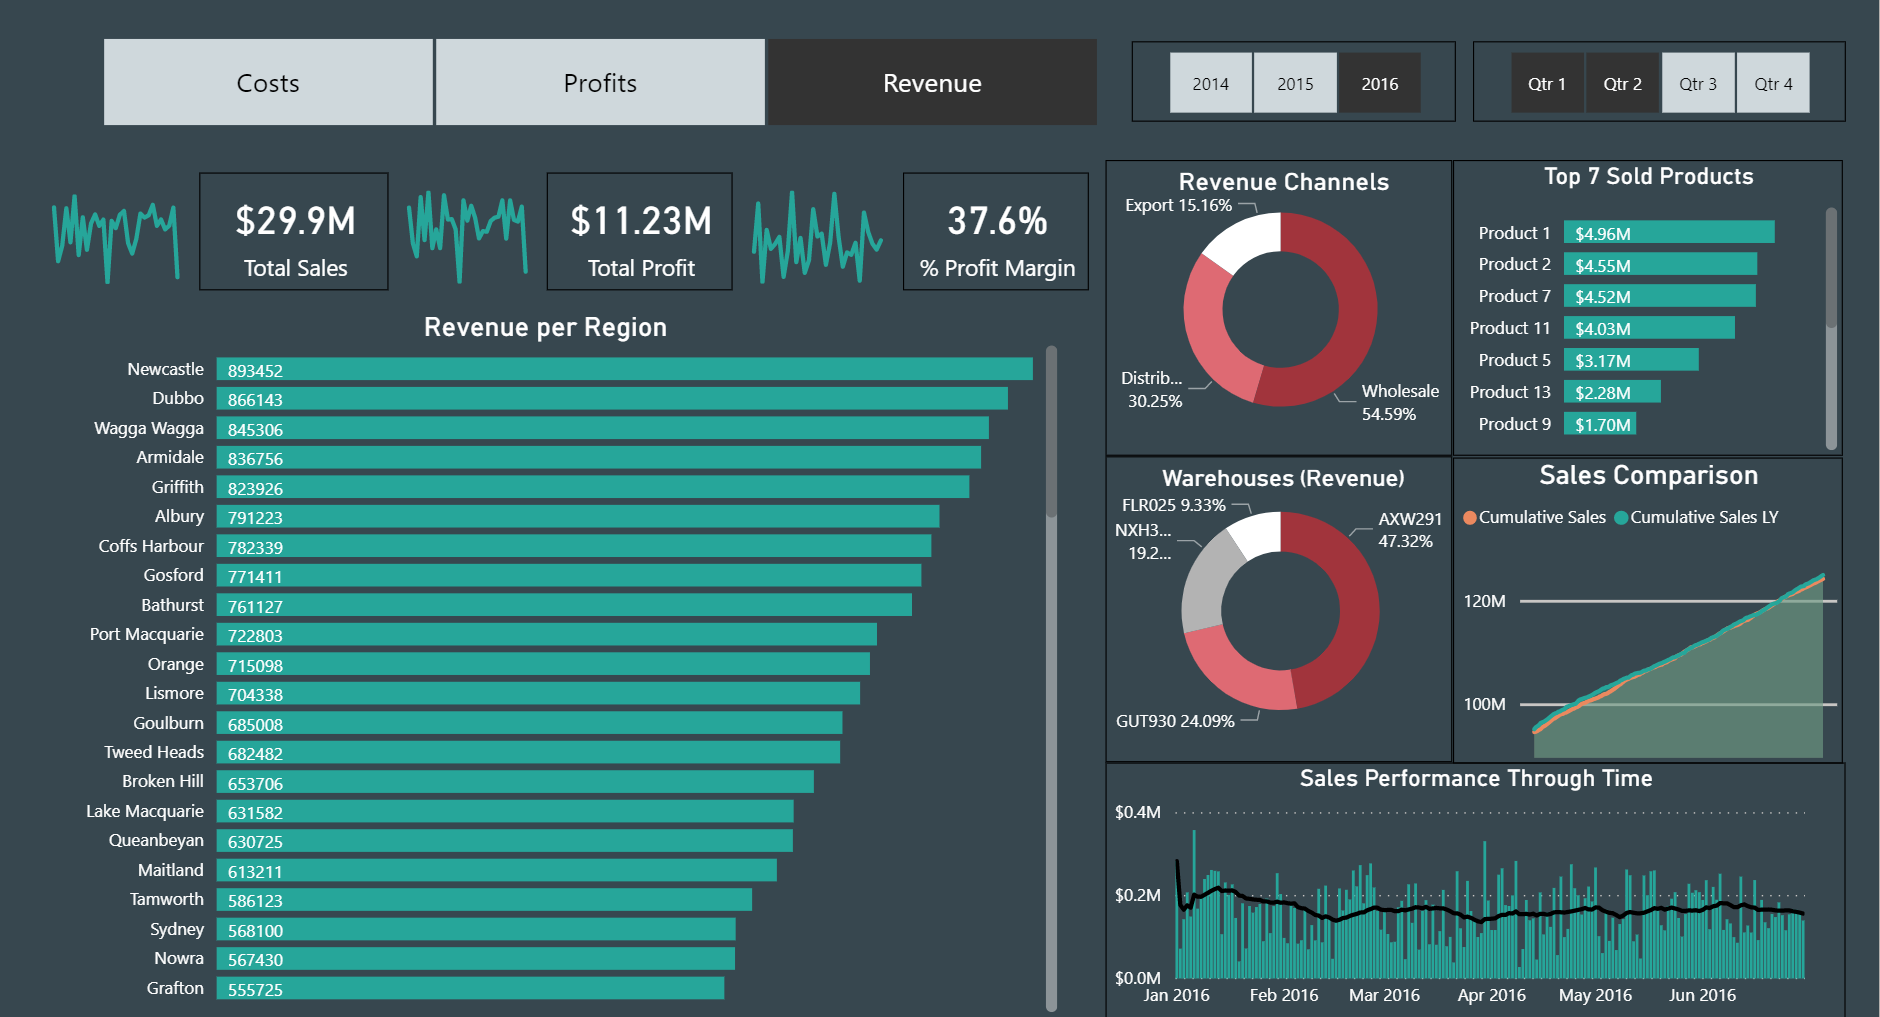

Layout of this report page (visuals, bound fields, positions):
{"tool":"powerbi","page":{"name":"Page 1","canvas":[1280,720],"ordinal":0},"visuals":[{"type":"slicer","fields":{"Values":["Date.Date.Variation.Date Hierarchy.Quarter"]},"box":[1016.7,28.9,262.9,56.7],"z":0},{"type":"slicer","fields":{"Values":["Date.Date.Variation.Date Hierarchy.Year"]},"box":[775.5,28.9,229.1,56.7],"z":1000},{"type":"card","fields":{"Values":["Key Measures.Total Sales"]},"box":[117,121.8,133.9,83.2],"z":2000},{"type":"lineChart","fields":{"Y":["Key Measures.Total Sales"],"Category":["Date.Date.Variation.Date Hierarchy.Year","Date.Date.Variation.Date Hierarchy.Quarter","Date.Date.Variation.Date Hierarchy.Month","Date.Date.Variation.Date Hierarchy.Day"]},"box":[0,124.2,117,80.8],"z":3000},{"type":"card","fields":{"Values":["Key Measures.Total Profit"]},"box":[363,121.8,131.5,83.2],"z":4000},{"type":"card","fields":{"Values":["Key Measures.Profit %"]},"box":[613.9,121.8,131.5,83.2],"z":5000},{"type":"lineChart","fields":{"Y":["Key Measures.Total Profit"],"Category":["Date.Date.Variation.Date Hierarchy.Year","Date.Date.Variation.Date Hierarchy.Quarter","Date.Date.Variation.Date Hierarchy.Month","Date.Date.Variation.Date Hierarchy.Day"]},"box":[250.9,121.8,112.2,83.2],"z":6000},{"type":"lineChart","fields":{"Y":["Key Measures.% Profit Margin"],"Category":["Date.Date.Variation.Date Hierarchy.Year","Date.Date.Variation.Date Hierarchy.Quarter","Date.Date.Variation.Date Hierarchy.Month","Date.Date.Variation.Date Hierarchy.Day"]},"box":[494.5,121.8,119.4,83.2],"z":7000},{"type":"clusteredBarChart","title":"Performance per sales region","fields":{"Category":["Regions.City"],"Y":["Key Measures.Selected Metric"]},"box":[24.1,231.6,704.3,488.4],"z":8000},{"type":"donutChart","title":"Sales Channels","fields":{"Series":["Sales.Channel"],"Y":["Key Measures.Selected Metric"]},"box":[757.4,113.4,244.8,208.6],"z":9000},{"type":"clusteredBarChart","title":"Top 7 Sold Products","fields":{"Y":["Key Measures.Total Sales"],"Category":["Product Data.Product Name"]},"box":[1002.2,113.4,275,208.6],"z":10000},{"type":"donutChart","title":"Warehouses","fields":{"Category":["Sales.Warehouse Code"],"Y":["Key Measures.Selected Metric"]},"box":[757.4,322,244.8,215.9],"z":11000},{"type":"areaChart","title":"Sales Comparison","fields":{"Y":["Cumulative Measures.Cumulative Sales"],"Category":["Date.Date"],"Y2":["Cumulative Measures.Cumulative Sales LY"]},"box":[1002.2,323.2,275,215.9],"z":12000},{"type":"lineClusteredColumnComboChart","title":"Sales Performance Through Time","fields":{"Y":["Key Measures.Total Sales"],"Category":["Sales.OrderDate"],"Y2":["Moving Average.Sales MA (30Days)"]},"box":[757.4,537.9,522.2,182.1],"z":13000},{"type":"slicer","fields":{"Values":["Metric Selection.Metric"]},"box":[24.1,20.5,751.4,74.8],"z":14000},{"type":"card","fields":{"Values":["Titles.Measure per region"]},"box":[270.2,213.5,184.5,35],"z":15000},{"type":"card","fields":{"Values":["Titles.Measure Channels"]},"box":[802,113.4,162.8,24.1],"z":16000},{"type":"card","fields":{"Values":["Titles.Warehouse"]},"box":[775.5,322,213.5,22.9],"z":17000}]}

Visuals, with their boxes on the page's 1280x720 design canvas (x1, y1, x2, y2). These are canvas units, not pixel positions in the 1880x1017 screenshot, which may show the page scaled, cropped or inside an application window:
slicer - Date.Date.Variation.Date Hierarchy.Quarter: (left=1017, top=29, right=1280, bottom=86)
slicer - Date.Date.Variation.Date Hierarchy.Year: (left=776, top=29, right=1005, bottom=86)
card - Key Measures.Total Sales: (left=117, top=122, right=251, bottom=205)
lineChart - Key Measures.Total Sales x Date.Date.Variation.Date Hierarchy.Year: (left=0, top=124, right=117, bottom=205)
card - Key Measures.Total Profit: (left=363, top=122, right=494, bottom=205)
card - Key Measures.Profit %: (left=614, top=122, right=745, bottom=205)
lineChart - Key Measures.Total Profit x Date.Date.Variation.Date Hierarchy.Year: (left=251, top=122, right=363, bottom=205)
lineChart - Key Measures.% Profit Margin x Date.Date.Variation.Date Hierarchy.Year: (left=494, top=122, right=614, bottom=205)
"Performance per sales region" clusteredBarChart: (left=24, top=232, right=728, bottom=720)
"Sales Channels" donutChart: (left=757, top=113, right=1002, bottom=322)
"Top 7 Sold Products" clusteredBarChart: (left=1002, top=113, right=1277, bottom=322)
"Warehouses" donutChart: (left=757, top=322, right=1002, bottom=538)
"Sales Comparison" areaChart: (left=1002, top=323, right=1277, bottom=539)
"Sales Performance Through Time" lineClusteredColumnComboChart: (left=757, top=538, right=1280, bottom=720)
slicer - Metric Selection.Metric: (left=24, top=20, right=776, bottom=95)
card - Titles.Measure per region: (left=270, top=214, right=455, bottom=248)
card - Titles.Measure Channels: (left=802, top=113, right=965, bottom=138)
card - Titles.Warehouse: (left=776, top=322, right=989, bottom=345)
